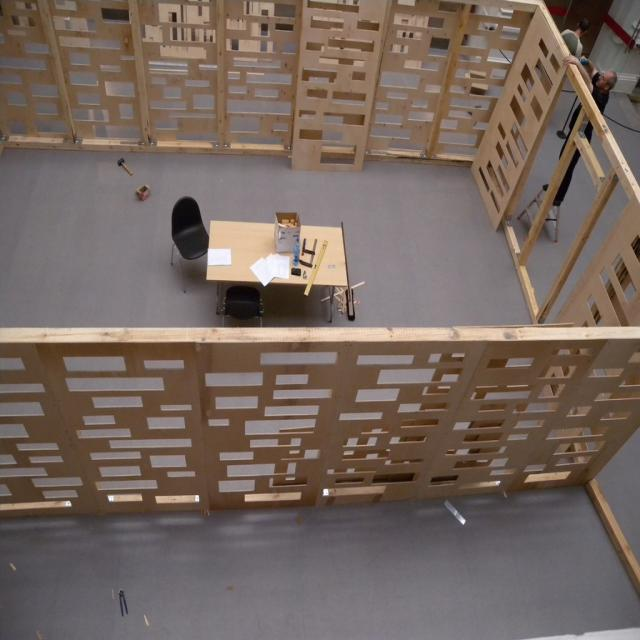chair: (170, 196, 210, 294), (224, 286, 264, 327)
desk: (211, 219, 347, 323)
